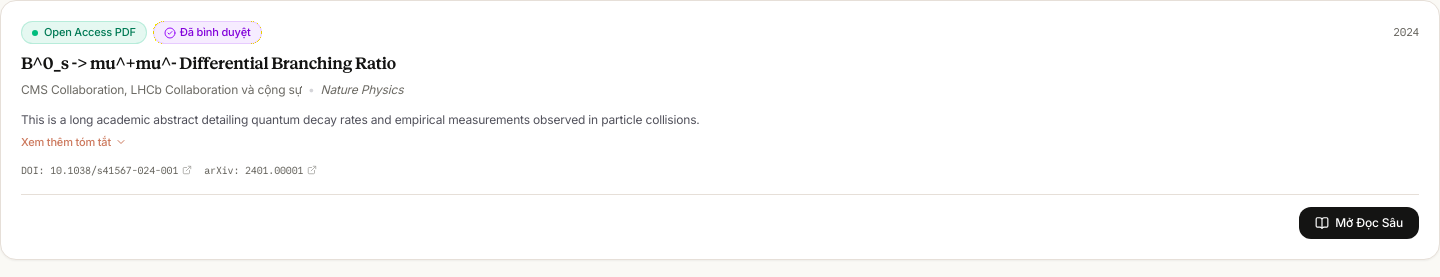
Test: ScholarlyResultCard Component › limits abstract to line-clamp-2 and supports expansion
Click the button "Xem thêm tóm tắt" at (74, 142), box top-left (21, 134), bottom-right (127, 150)
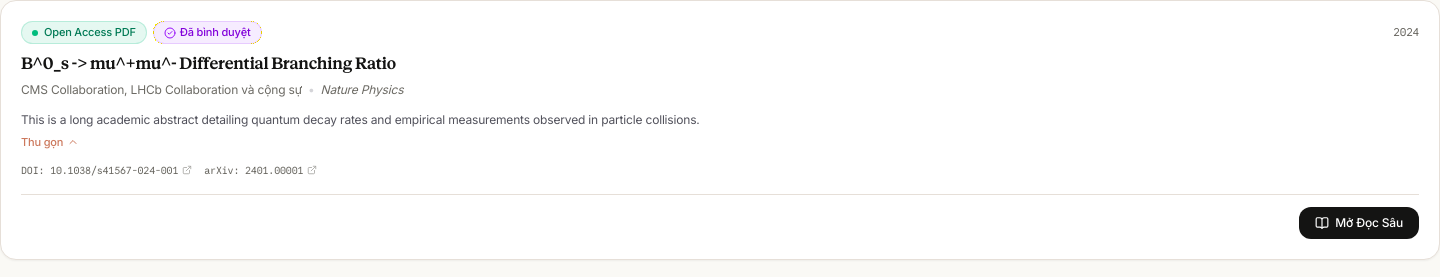
Result: the text "Thu gọn" is shown at top-left (21, 134), bottom-right (63, 150)
